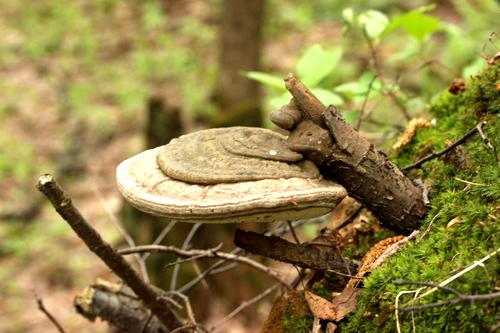Ganoderma - Fruit Body: (108, 96, 347, 227)
